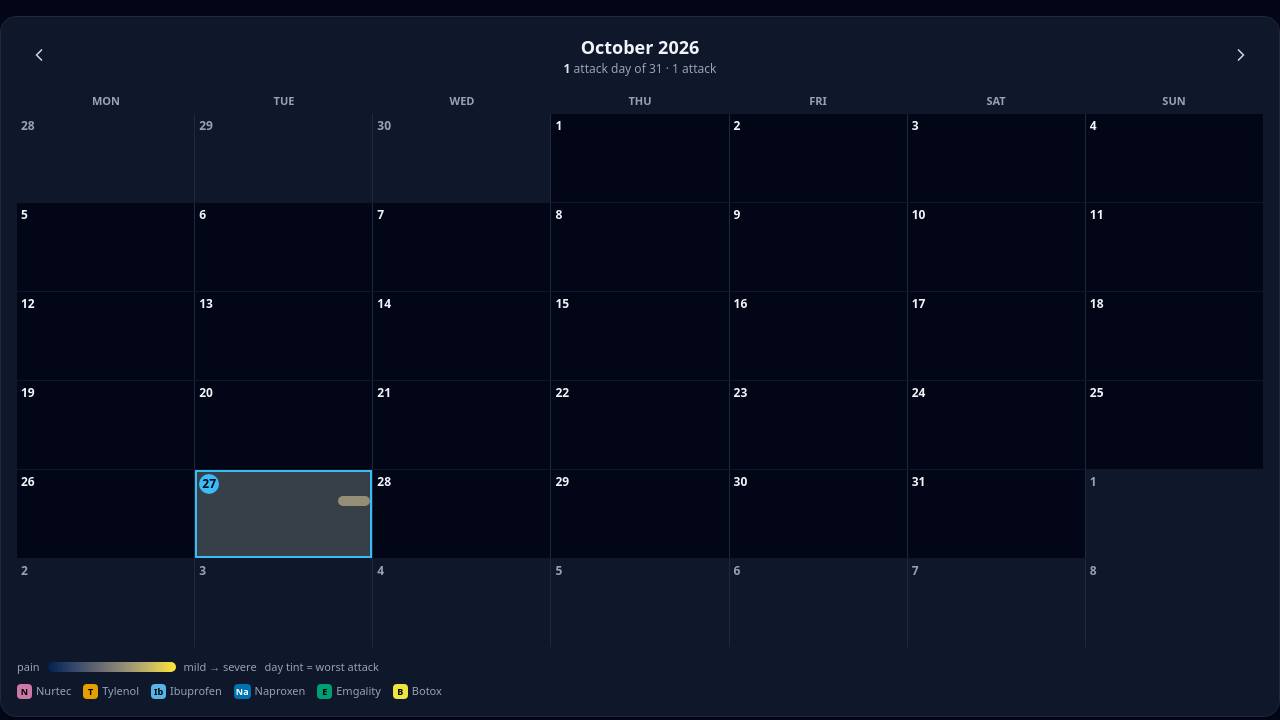
Test: CalendarPage attack-day rule › shows Off for a record-less day overlapped by an ended attack
Click the button "27". click: x=284, y=514
box: x1=195 y1=470 x2=372 y2=558
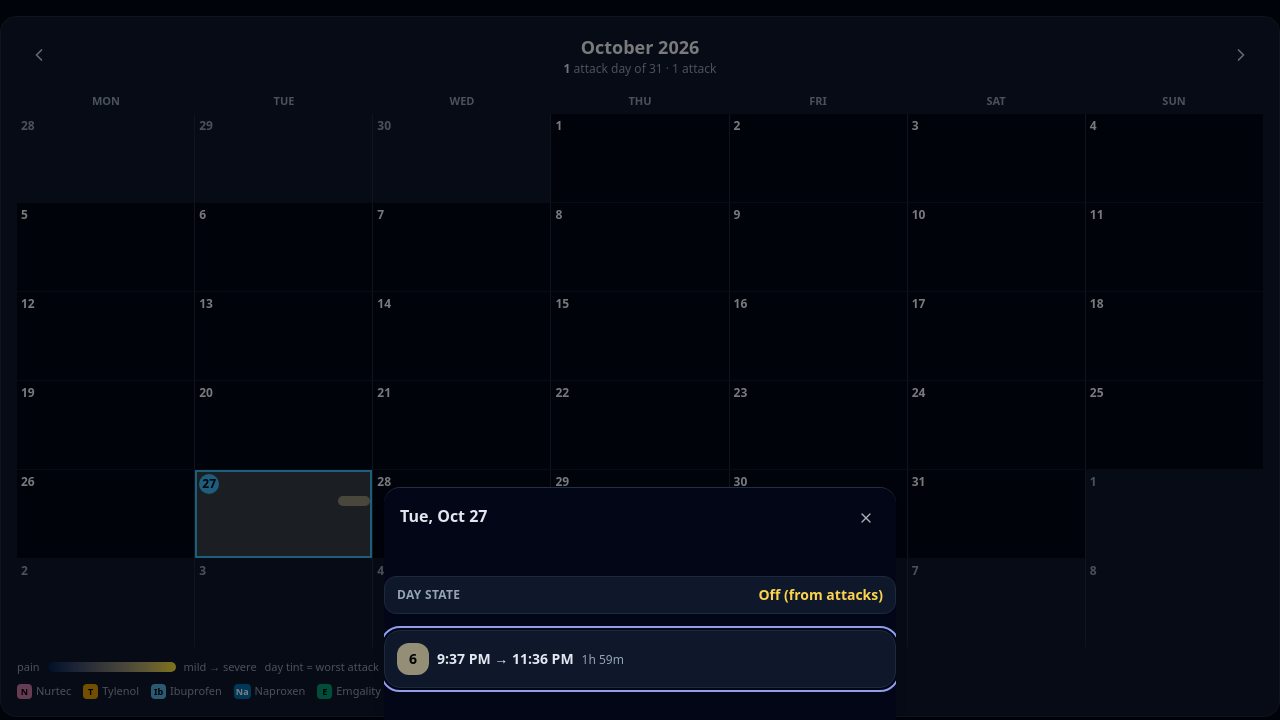
Check: the text "Off (from attacks)" is shown, box x1=758 y1=585 x2=883 y2=605
